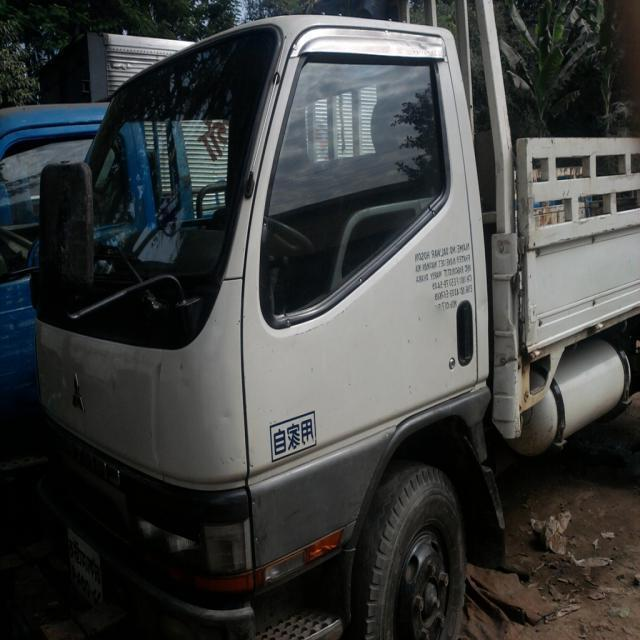truck: (35, 0, 640, 639)
